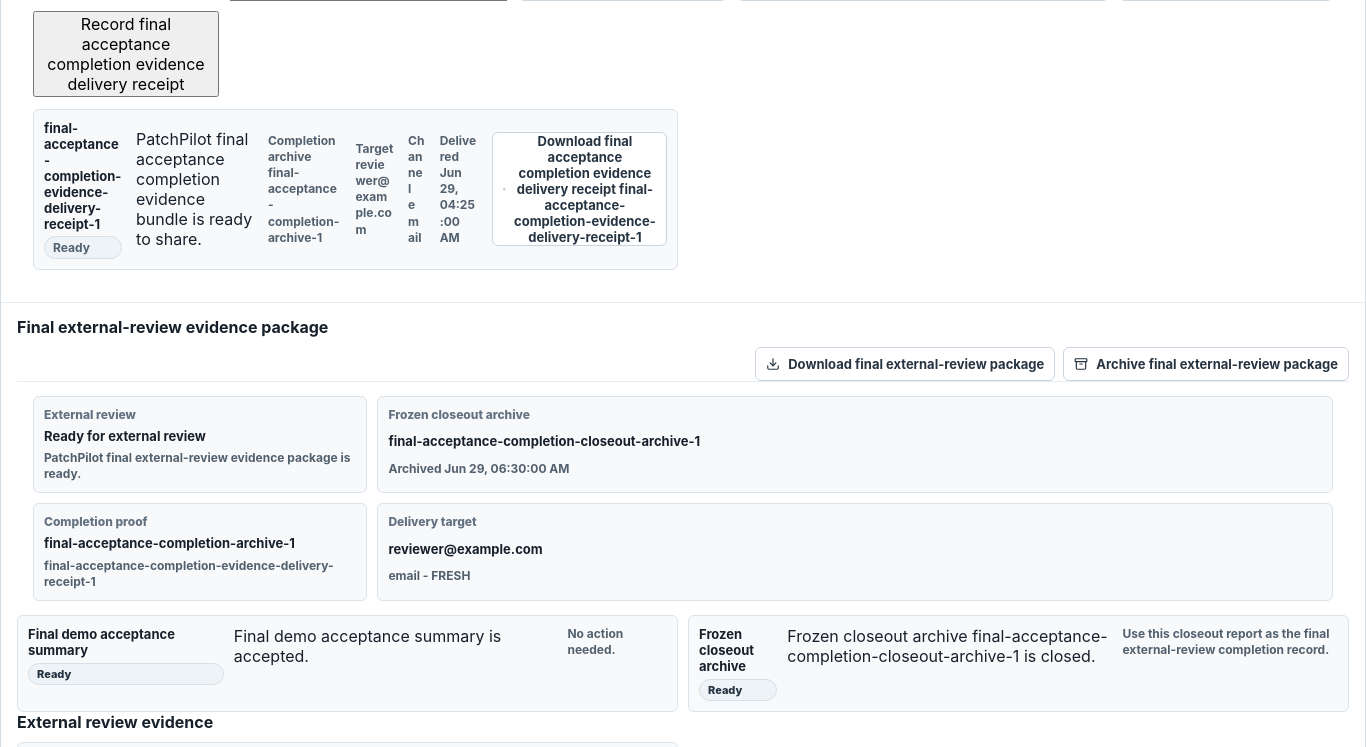
Scenario: downloads final external-review evidence package report
(page scrolled)
Click the button "Download final external-review package".
click(905, 364)  # box [755,347,1055,381]
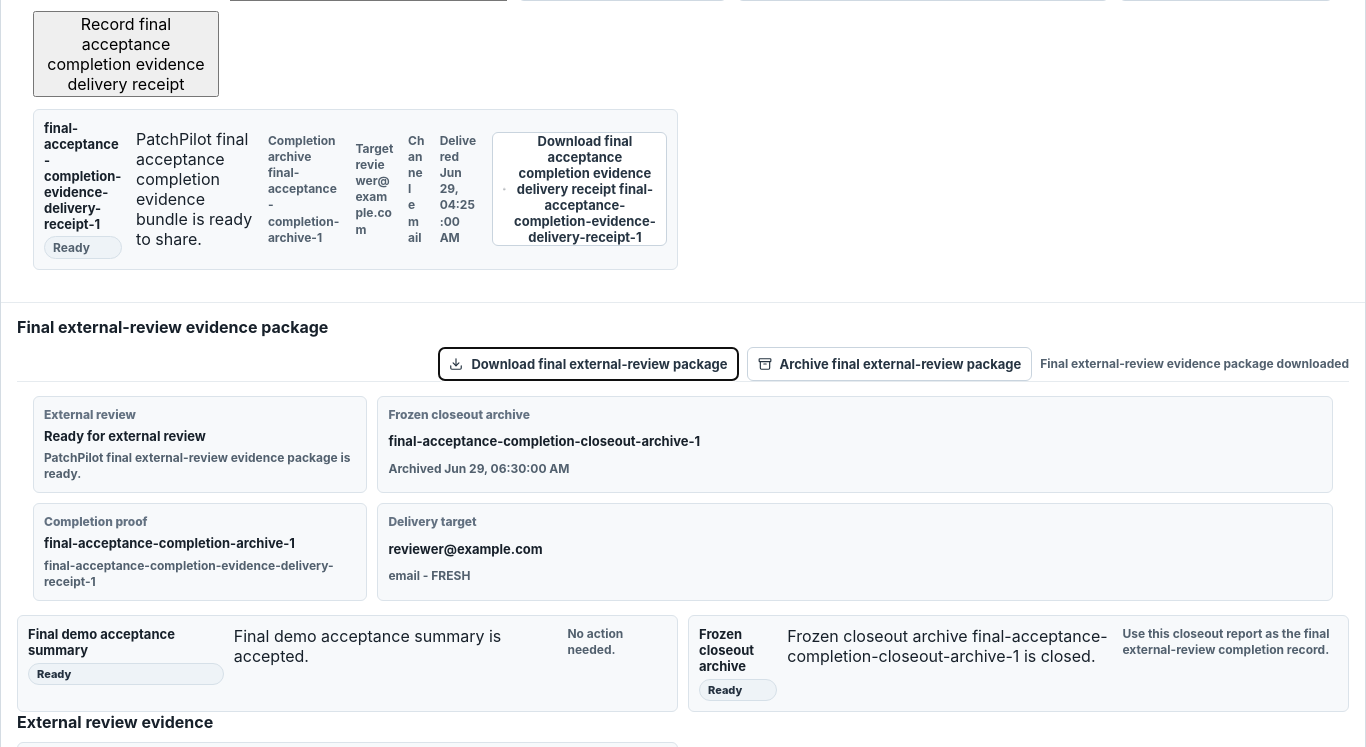
Result: the text "Final external-review evidence package downloaded" is shown at [1040,356,1349,371]
